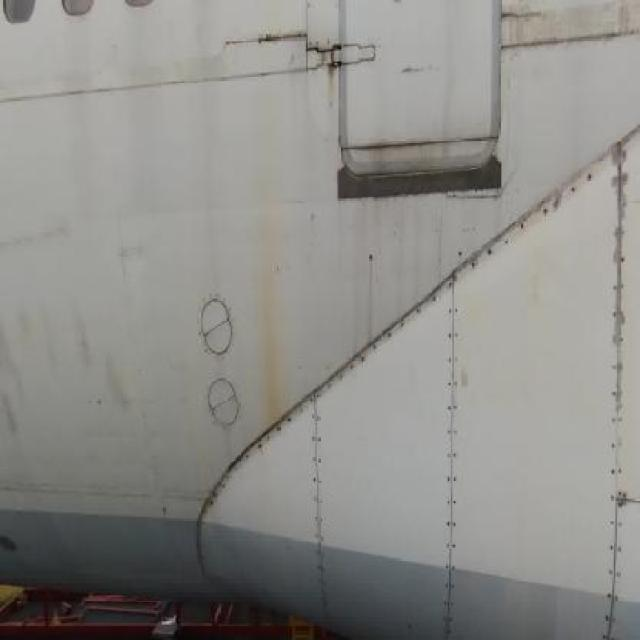Missing-Rivet: (465, 178, 598, 299), (602, 129, 632, 640), (335, 289, 442, 400), (442, 259, 464, 618), (304, 380, 331, 591), (236, 404, 304, 482)
Rust: (252, 200, 294, 438), (317, 38, 355, 125)
Scartch: (0, 292, 143, 454), (1, 218, 167, 284), (500, 1, 640, 53)
